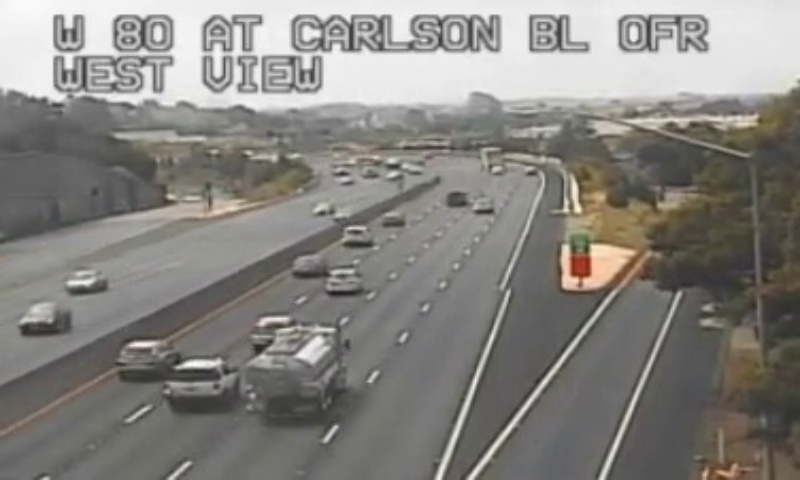car: (165, 357, 238, 396), (117, 339, 176, 377), (248, 315, 295, 344), (323, 268, 361, 294), (340, 225, 372, 247), (291, 256, 323, 274)
tank-truck: (244, 323, 342, 416)
